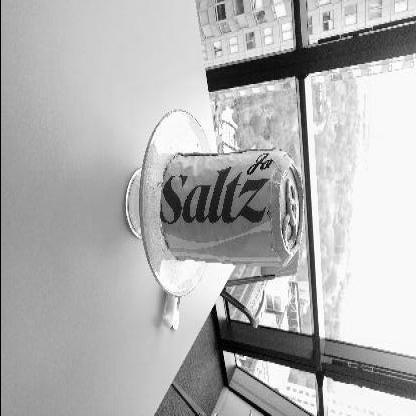alumunium_can: (153, 149, 302, 271)
